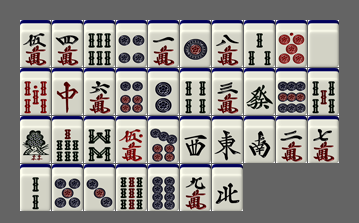0m: (116, 116, 147, 163)
0p: (276, 20, 307, 67)
0s: (20, 68, 51, 115)
1m: (148, 20, 179, 67)
1p: (180, 20, 211, 67)
1s: (20, 116, 51, 163)
1z: (212, 116, 243, 163)
2m: (276, 116, 307, 163)
2p: (148, 68, 179, 115)
2s: (20, 164, 51, 211)
2z: (244, 116, 275, 163)
3m: (212, 68, 243, 115)
3p: (84, 164, 115, 211)
3s: (244, 20, 275, 67)
3z: (180, 116, 211, 163)
4m: (52, 20, 83, 67)
4p: (116, 20, 147, 67)
4s: (180, 68, 211, 115)
4z: (212, 164, 243, 211)
5m: (20, 20, 51, 67)
5p: (52, 164, 83, 211)
5s: (308, 68, 339, 115)
5z: (308, 20, 339, 67)
6m: (84, 68, 115, 115)
6p: (116, 68, 147, 115)
6s: (84, 20, 115, 67)
6z: (244, 68, 275, 115)
7m: (308, 116, 339, 163)
7p: (148, 116, 179, 163)
7s: (52, 116, 83, 163)
7z: (52, 68, 83, 115)
8m: (212, 20, 243, 67)
8p: (148, 164, 179, 211)
8s: (84, 116, 115, 163)
9m: (180, 164, 211, 211)
9p: (276, 68, 307, 115)
9s: (116, 164, 147, 211)
